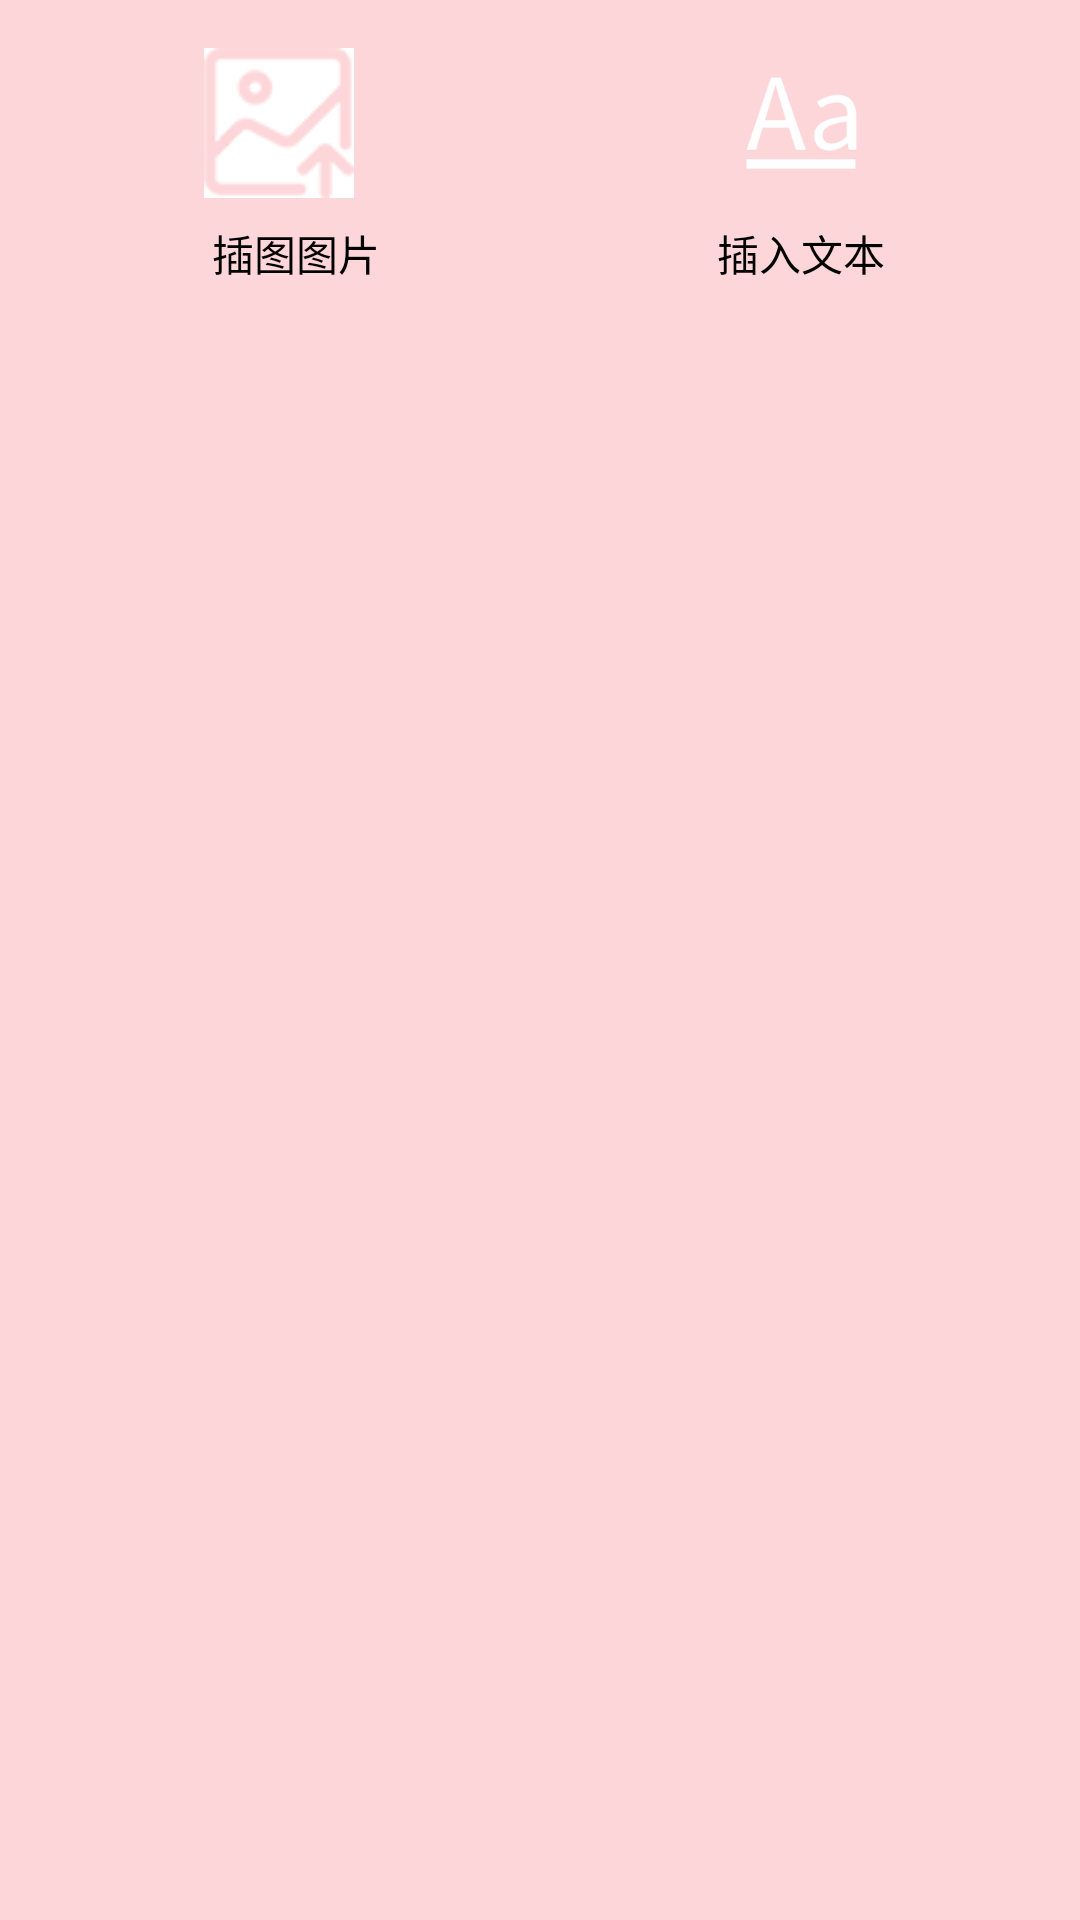

Icons on this 1080w x 1920h Android screen, each with the point to tap as [x,y]:
text add: [801,123]
